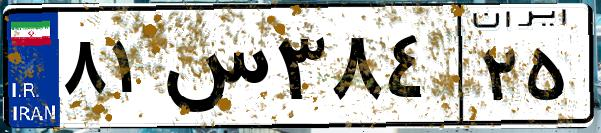1: (110, 28, 158, 98)
2: (475, 38, 525, 113)
3: (270, 28, 330, 110)
4: (385, 28, 445, 110)
5: (525, 38, 570, 115)
8: (330, 28, 385, 110), (57, 26, 110, 100)
س: (158, 20, 270, 120)
